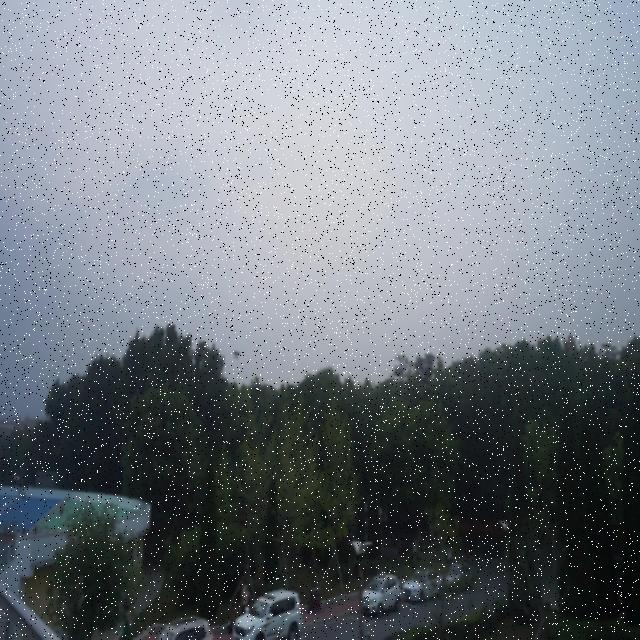UAV: (232, 350, 241, 360)
